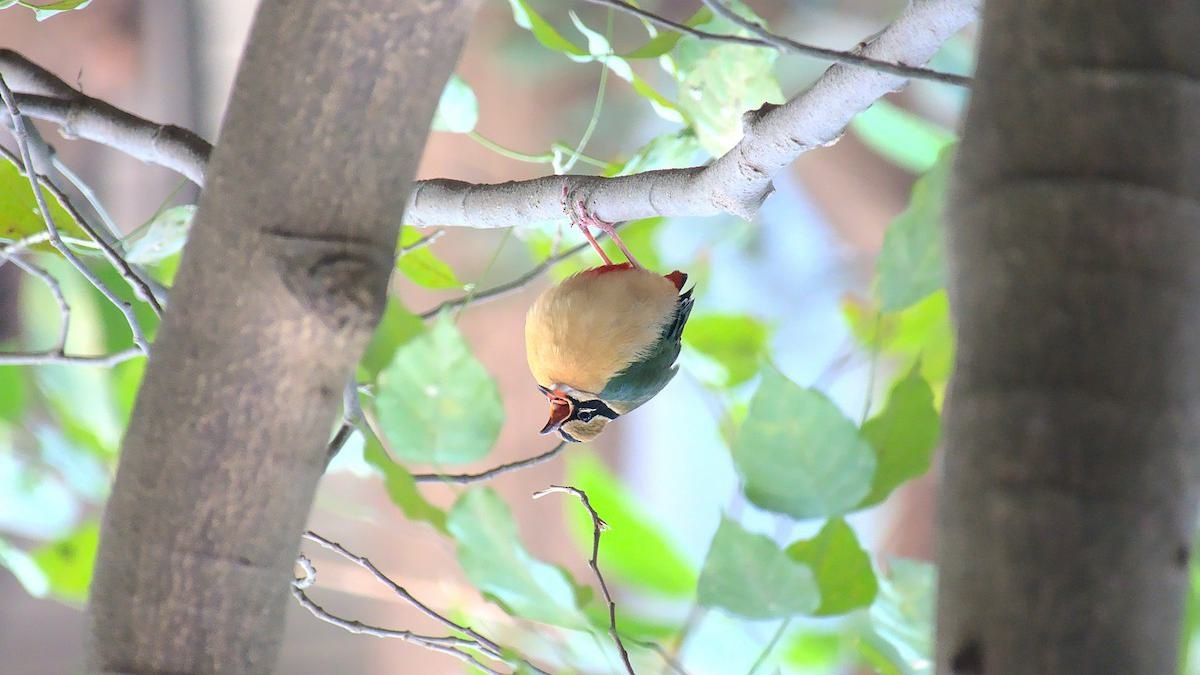pitta: (487, 164, 698, 494)
